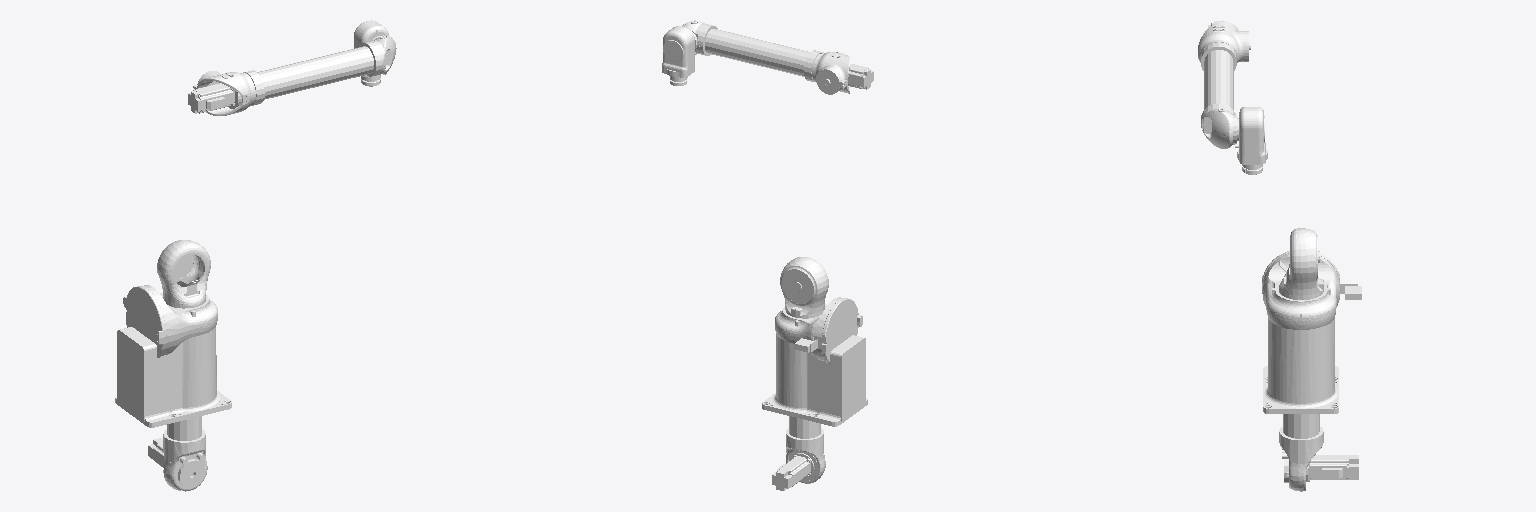
URDF robot description (hsr_br609):
<robot
  name="hsr_br609">

  <link name="world"/>

  <joint name="fixed" type="fixed">
    <parent link="world"/>
    <child link="base_link"/>
  </joint>

  <link
    name="base_link">
    <inertial>
      <origin
        xyz="-0.04048 0.13581 3.3868E-08"
        rpy="0 0 0" />
      <mass
        value="10.953" />
      <inertia
        ixx="0.093854"
        ixy="-0.0058279"
        ixz="-2.7968E-06"
        iyy="0.08053"
        iyz="-3.1346E-08"
        izz="0.12746" />
    </inertial>
    <visual>
      <origin
        xyz="0 0 0"
        rpy="0 0 0" />
      <geometry>
        <mesh
          filename="package://hsr_description/meshes/br609/606.STL" />
      </geometry>
      <material
        name="">
        <color
          rgba="1 1 1 1" />
      </material>
    </visual>
    <collision>
      <origin
        xyz="0 0 0"
        rpy="0 0 0" />
      <geometry>
        <mesh
          filename="package://hsr_description/meshes/br609/606.STL" />
      </geometry>
    </collision>
  </link>
  <link
    name="link1">
    <inertial>
      <origin
        xyz="-0.0163306206762966 -0.10203089300622 0.000232319908487642"
        rpy="0 0 0" />
      <mass
        value="4.59274863839256" />
      <inertia
        ixx="0.0270630197712814"
        ixy="-0.0033137935663697"
        ixz="-1.75074015007323E-05"
        iyy="0.0249050350102758"
        iyz="-9.30238114540491E-05"
        izz="0.0311201092025717" />
    </inertial>
    <visual>
      <origin
        xyz="0 0 0"
        rpy="0 0 0" />
      <geometry>
        <mesh
          filename="package://hsr_description/meshes/br609/link1.STL" />
      </geometry>
      <material
        name="">
        <color
          rgba="1 1 1 1" />
      </material>
    </visual>
    <collision>
      <origin
        xyz="0 0 0"
        rpy="0 0 0" />
      <geometry>
        <mesh
          filename="package://hsr_description/meshes/br609/link1.STL" />
      </geometry>
    </collision>
  </link>
  <joint
    name="joint_1"
    type="continuous">
    <origin
      xyz="0 0 0.2755"
      rpy="-1.5708 -6.123E-17 -1.5708" />
    <parent
      link="base_link" />
    <child
      link="link1" />
    <axis
      xyz="0 -1 0" />
  </joint>
  <link
    name="link2">
    <inertial>
      <origin
        xyz="-0.343383970607949 0.000104694939987791 -0.0904888462359027"
        rpy="0 0 0" />
      <mass
        value="5.90673615464513" />
      <inertia
        ixx="0.0123417757465994"
        ixy="0.000172612377849355"
        ixz="0.00537221082086388"
        iyy="0.268650546344178"
        iyz="-4.58606980168505E-05"
        izz="0.26660968982124" />
    </inertial>
    <visual>
      <origin
        xyz="0 0 0"
        rpy="0 0 0" />
      <geometry>
        <mesh
          filename="package://hsr_description/meshes/br609/link2.STL" />
      </geometry>
      <material
        name="">
        <color
          rgba="1 1 1 1" />
      </material>
    </visual>
    <collision>
      <origin
        xyz="0 0 0"
        rpy="0 0 0" />
      <geometry>
        <mesh
          filename="package://hsr_description/meshes/br609/link2.STL" />
      </geometry>
    </collision>
  </link>
  <joint
    name="joint_2"
    type="continuous">
    <origin
      xyz="0 -0.145 0"
      rpy="-1.5707963267949 -1.22460635382238E-16 1.5707963267949" />
    <parent
      link="link1" />
    <child
      link="link2" />
    <axis
      xyz="0 0 -1" />
  </joint>
  <link
    name="link3">
    <inertial>
      <origin
        xyz="0.00353711765158837 4.76840786842736E-05 0.0765655298267037"
        rpy="0 0 0" />
      <mass
        value="1.11115703458445" />
      <inertia
        ixx="0.00181208362757718"
        ixy="-8.11948339135492E-07"
        ixz="-8.10491987253363E-05"
        iyy="0.00341914947898713"
        iyz="2.44710124950598E-09"
        izz="0.00304059759788021" />
    </inertial>
    <visual>
      <origin
        xyz="0 0 0"
        rpy="0 0 0" />
      <geometry>
        <mesh
          filename="package://hsr_description/meshes/br609/link3.STL" />
      </geometry>
      <material
        name="">
        <color
          rgba="1 1 1 1" />
      </material>
    </visual>
    <collision>
      <origin
        xyz="0 0 0"
        rpy="0 0 0" />
      <geometry>
        <mesh
          filename="package://hsr_description/meshes/br609/link3.STL" />
      </geometry>
    </collision>
  </link>
  <joint
    name="joint_3"
    type="continuous">
    <origin
      xyz="-0.625999999928 0 -0.13649874600638"
      rpy="3.14159265358979 -5.665498452323E-16 -1.5707963267949" />
    <parent
      link="link2" />
    <child
      link="link3" />
    <axis
      xyz="0 0 1" />
  </joint>
  <link
    name="link4">
    <inertial>
      <origin
        xyz="0.00258987084780571 -7.84125502306665E-07 -0.252005454356107"
        rpy="0 0 0" />
      <mass
        value="2.67522980678295" />
      <inertia
        ixx="0.058522232482958"
        ixy="1.50767495468843E-09"
        ixz="0.00146600478334339"
        iyy="0.0585343344711802"
        iyz="7.12530843053089E-07"
        izz="0.00254492829516241" />
    </inertial>
    <visual>
      <origin
        xyz="0 0 0"
        rpy="0 0 0" />
      <geometry>
        <mesh
          filename="package://hsr_description/meshes/br609/link4.STL" />
      </geometry>
      <material
        name="">
        <color
          rgba="1 1 1 1" />
      </material>
    </visual>
    <collision>
      <origin
        xyz="0 0 0"
        rpy="0 0 0" />
      <geometry>
        <mesh
          filename="package://hsr_description/meshes/br609/link4.STL" />
      </geometry>
    </collision>
  </link>
  <joint
    name="joint_4"
    type="continuous">
    <origin
      xyz="0.0715000000000143 0 0.0860012539936202"
      rpy="3.14159265358979 1.5707963267949 0" />
    <parent
      link="link3" />
    <child
      link="link4" />
    <axis
      xyz="0 0 -1" />
  </joint>
  <link
    name="link5">
    <inertial>
      <origin
        xyz="0.0464330051504287 1.32855309044055E-05 0.0215013015617751"
        rpy="0 0 0" />
      <mass
        value="0.867826372031057" />
      <inertia
        ixx="0.00215539648033595"
        ixy="-6.83725451098201E-09"
        ixz="-1.86245394764079E-05"
        iyy="0.00196841508516197"
        iyz="-6.44415649813966E-07"
        izz="0.000808751389178827" />
    </inertial>
    <visual>
      <origin
        xyz="0 0 0"
        rpy="0 0 0" />
      <geometry>
        <mesh
          filename="package://hsr_description/meshes/br609/link5.STL" />
      </geometry>
      <material
        name="">
        <color
          rgba="1 1 1 1" />
      </material>
    </visual>
    <collision>
      <origin
        xyz="0 0 0"
        rpy="0 0 0" />
      <geometry>
        <mesh
          filename="package://hsr_description/meshes/br609/link5.STL" />
      </geometry>
    </collision>
  </link>
  <joint
    name="joint_5"
    type="continuous">
    <origin
      xyz="0.0434999999994695 0 -0.459000000267993"
      rpy="-1.5707963267949 0 0" />
    <parent
      link="link4" />
    <child
      link="link5" />
    <axis
      xyz="-1 0 0" />
  </joint>
  <link
    name="link6">
    <inertial>
      <origin
        xyz="-8.6588206334226E-05 8.65882063357803E-05 -0.0107649485573806"
        rpy="0 0 0" />
      <mass
        value="0.0270769176758969" />
      <inertia
        ixx="5.43734063425383E-06"
        ixy="-1.00108295441334E-07"
        ixz="4.39894702309314E-09"
        iyy="5.4373406342541E-06"
        iyz="-4.39894702336087E-09"
        izz="1.01791524117616E-05" />
    </inertial>
    <visual>
      <origin
        xyz="0 0 0"
        rpy="0 0 0" />
      <geometry>
        <mesh
          filename="package://hsr_description/meshes/br609/link6.STL" />
      </geometry>
      <material
        name="">
        <color
          rgba="1 1 1 1" />
      </material>
    </visual>
    <collision>
      <origin
        xyz="0 0 0"
        rpy="0 0 0" />
      <geometry>
        <mesh
          filename="package://hsr_description/meshes/br609/link6.STL" />
      </geometry>
    </collision>
  </link>
  <joint
    name="joint_6"
    type="continuous">
    <origin
      xyz="0.0474999999995303 0 0.104999999999948"
      rpy="3.14159265358979 0 1.5707963267949" />
    <parent
      link="link5" />
    <child
      link="link6" />
    <axis
      xyz="0 0 1" />
  </joint>


<gazebo>
    <plugin name="gazebo_ros_control" filename="libgazebo_ros_control.so">
      <robotNamespace>/</robotNamespace>
      <robotSimType>gazebo_ros_control/DefaultRobotHWSim</robotSimType>
    </plugin>
  </gazebo>

  <transmission name="tran1">
    <type>transmission_interface/SimpleTransmission</type>
    <joint name="joint_1">
      <hardwareInterface>PositionJointInterface</hardwareInterface>
    </joint>
    <actuator name="motor1">
      <hardwareInterface>PositionJointInterface</hardwareInterface>
      <mechanicalReduction>1</mechanicalReduction>
    </actuator>
  </transmission>

  <transmission name="tran2">
    <type>transmission_interface/SimpleTransmission</type>
    <joint name="joint_2">
      <hardwareInterface>PositionJointInterface</hardwareInterface>
    </joint>
    <actuator name="motor2">
      <hardwareInterface>PositionJointInterface</hardwareInterface>
      <mechanicalReduction>1</mechanicalReduction>
    </actuator>
  </transmission>

  <transmission name="tran3">
    <type>transmission_interface/SimpleTransmission</type>
    <joint name="joint_3">
      <hardwareInterface>PositionJointInterface</hardwareInterface>
    </joint>
    <actuator name="motor3">
      <hardwareInterface>PositionJointInterface</hardwareInterface>
      <mechanicalReduction>1</mechanicalReduction>
    </actuator>
  </transmission>

  <transmission name="tran4">
    <type>transmission_interface/SimpleTransmission</type>
    <joint name="joint_4">
      <hardwareInterface>PositionJointInterface</hardwareInterface>
    </joint>
    <actuator name="motor4">
      <hardwareInterface>PositionJointInterface</hardwareInterface>
      <mechanicalReduction>1</mechanicalReduction>
    </actuator>
  </transmission>

  <transmission name="tran5">
    <type>transmission_interface/SimpleTransmission</type>
    <joint name="joint_5">
      <hardwareInterface>PositionJointInterface</hardwareInterface>
    </joint>
    <actuator name="motor5">
      <hardwareInterface>PositionJointInterface</hardwareInterface>
      <mechanicalReduction>1</mechanicalReduction>
    </actuator>
  </transmission>

  <transmission name="tran6">
    <type>transmission_interface/SimpleTransmission</type>
    <joint name="joint_6">
      <hardwareInterface>PositionJointInterface</hardwareInterface>
    </joint>
    <actuator name="motor6">
      <hardwareInterface>PositionJointInterface</hardwareInterface>
      <mechanicalReduction>1</mechanicalReduction>
    </actuator>
  </transmission>

</robot>

--- Render facts (derived) ---
The picture shows the robot from 3 angles, left to right: view 1: azimuth 30°, elevation 25°; view 2: azimuth 150°, elevation 25°; view 3: azimuth 270°, elevation 25°; orthographic projection.
Model hsr_br609 with 8 links and 7 joints (6 continuous, 1 fixed), rooted at world, posed every joint at zero.
Visible links, largest first — view 1: base_link, link2, link4, link1, link3, link5; view 2: base_link, link2, link4, link1, link3, link5; view 3: base_link, link2, link1, link4, link5, link3.
Link boxes in pixels (bbox=[...]): base_link: bbox=[115, 327, 231, 427]; link2: bbox=[148, 240, 210, 491]; link4: bbox=[245, 35, 396, 105]; link1: bbox=[123, 285, 217, 357]; link3: bbox=[188, 71, 255, 115]; link5: bbox=[354, 20, 388, 81]; base_link: bbox=[762, 334, 867, 426]; link2: bbox=[772, 257, 828, 490]; link4: bbox=[682, 20, 820, 81]; link1: bbox=[775, 297, 862, 363]; link3: bbox=[812, 52, 873, 94]; link5: bbox=[662, 26, 695, 81]; base_link: bbox=[1263, 318, 1338, 413]; link2: bbox=[1279, 228, 1358, 491]; link1: bbox=[1262, 251, 1361, 329]; link4: bbox=[1201, 42, 1238, 148]; link5: bbox=[1235, 107, 1267, 169]; link3: bbox=[1198, 20, 1250, 62].
Size in the robot's own frame: 0.7527 by 0.4415 by 1.38 metres.
7 mesh visuals loaded from 7 distinct referenced files (7 binary STL).